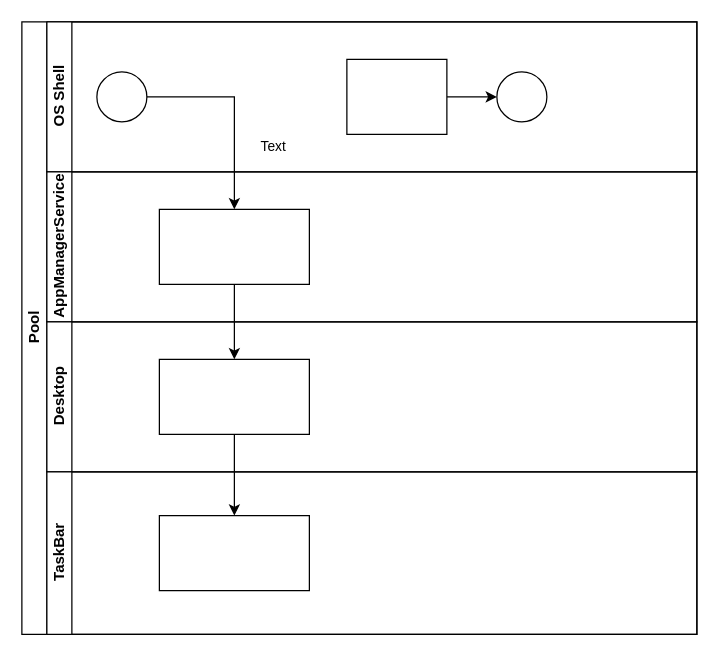
Image size: 719x656. Some labels were removed from this diagram. Each missing label, with the centre of its shape:
"LoadApplist" goes at (x=233, y=246).
"LoadPinedApps" goes at (x=233, y=552).
"LoadSymlinks" goes at (x=233, y=396).
